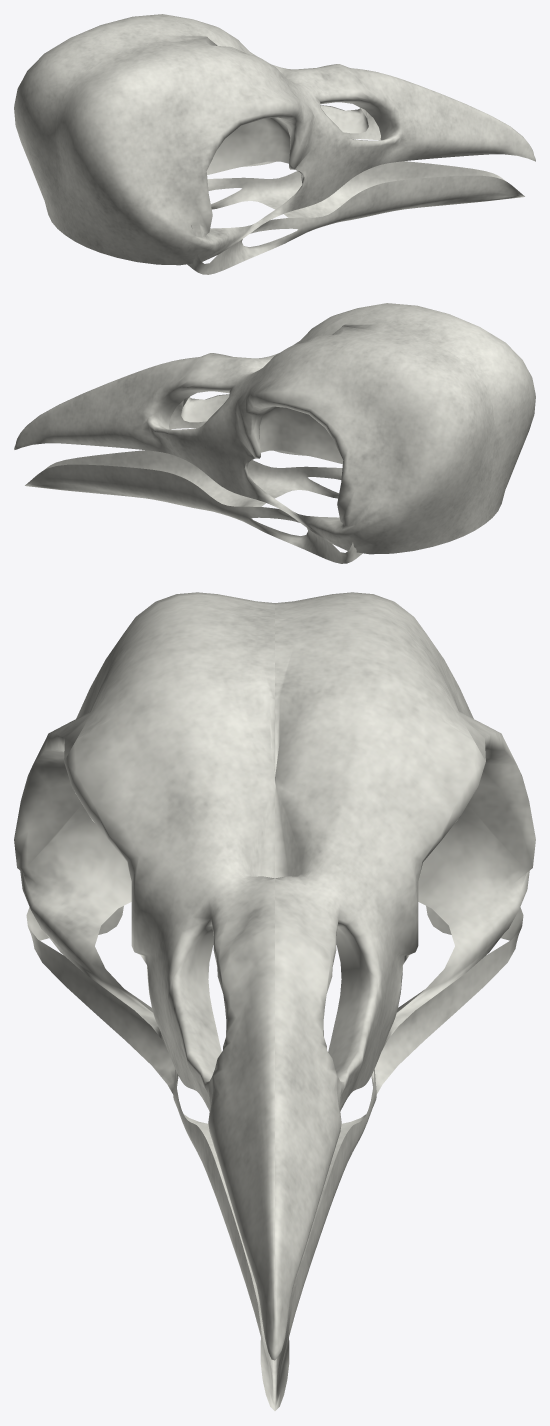
File: crow.gltf
3 renders of one model, top to bottom at view 1: azimuth 30°, elevation 25°; view 2: azimuth 150°, elevation 25°; view 3: azimuth 270°, elevation 25°, orthographic. The views are drawn at different scales.
Parts seen in each view (by area): view 1: Head; view 2: Head; view 3: Head.
Part boxes in pixels (x1,y1,x2,y2): Head: (14, 14, 535, 274); Head: (14, 303, 535, 563); Head: (14, 592, 535, 1410).
Bounding box in the file's own units: 6.98 × 3.41 × 3.58.
1 material, 1 textured.
